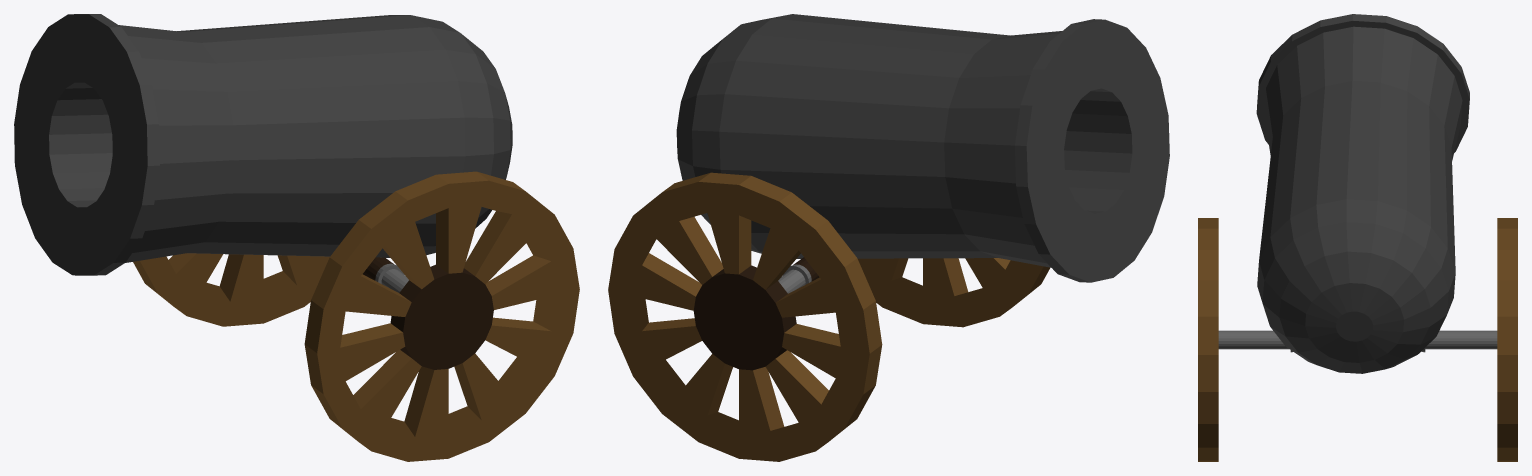
File: cannon.fbx
The picture shows the model from 3 angles, left to right: view 1: azimuth 30°, elevation 25°; view 2: azimuth 150°, elevation 25°; view 3: azimuth 270°, elevation 25°; orthographic projection. The views are drawn at different scales.
Parts seen in each view (by area): view 1: CannonHead, LeftWheel, RightWheel, Bar; view 2: CannonHead, RightWheel, LeftWheel, Bar; view 3: CannonHead, LeftWheel, RightWheel, Bar.
Boxes of the visible parts, x1=… form: CannonHead: x1=14, y1=14, x2=512, y2=275; LeftWheel: x1=304, y1=171, x2=579, y2=461; RightWheel: x1=133, y1=253, x2=329, y2=326; Bar: x1=363, y1=257, x2=408, y2=292; CannonHead: x1=676, y1=14, x2=1169, y2=282; RightWheel: x1=608, y1=172, x2=882, y2=461; LeftWheel: x1=858, y1=258, x2=1049, y2=327; Bar: x1=778, y1=257, x2=819, y2=293; CannonHead: x1=1256, y1=14, x2=1469, y2=373; LeftWheel: x1=1198, y1=218, x2=1218, y2=461; RightWheel: x1=1497, y1=218, x2=1517, y2=461; Bar: x1=1218, y1=330, x2=1497, y2=352.
Bounding box in the file's own units: 401 × 377 × 320.
1 material, 1 textured.
